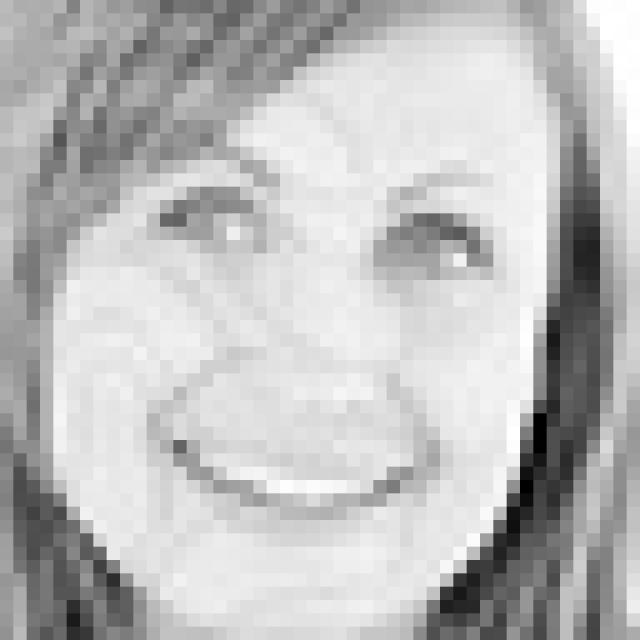happy: (137, 130, 514, 554)
